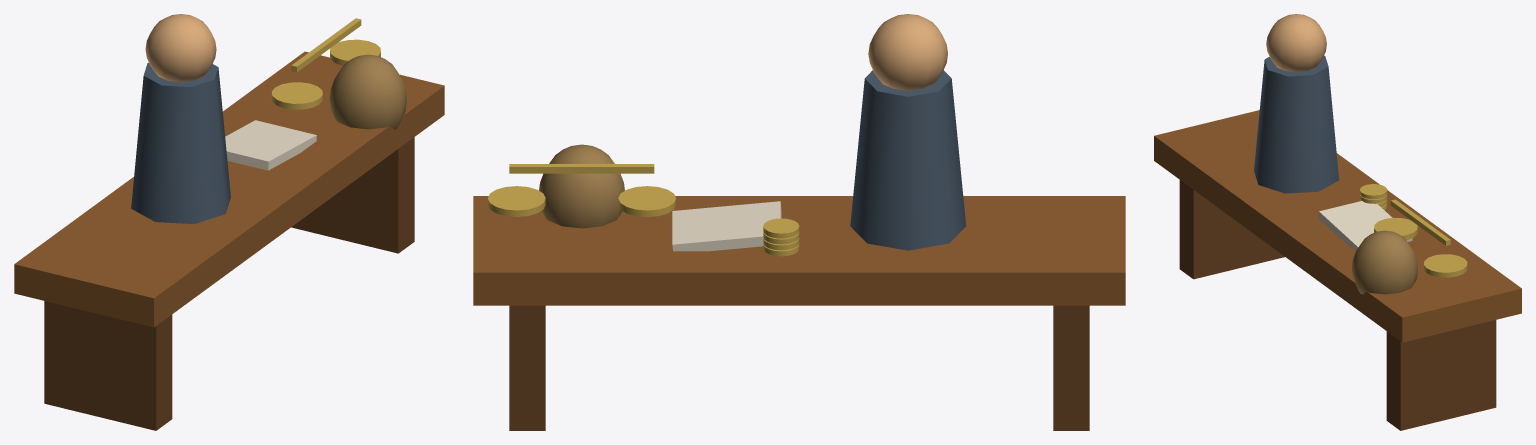
The model's file is bank_bench.glb.
3 renders of one model, left to right at view 1: azimuth 30°, elevation 25°; view 2: azimuth 150°, elevation 25°; view 3: azimuth 270°, elevation 25°, orthographic. The views are drawn at different scales.
Size of the model in its own units: 1.81 by 1.16 by 1.33.
